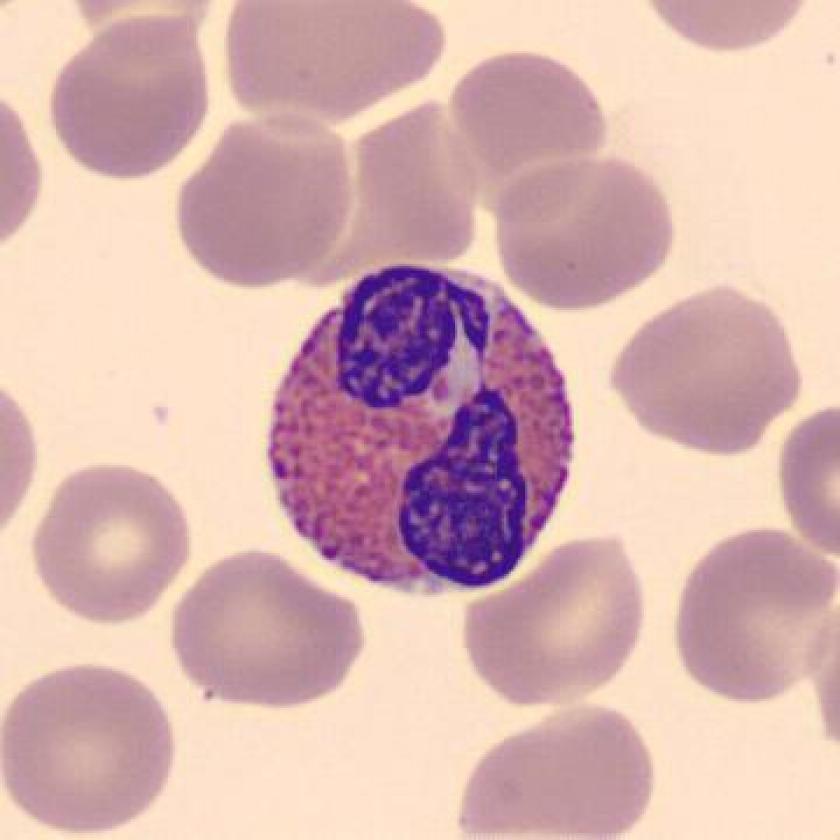eosinophil: (255, 253, 589, 617)
